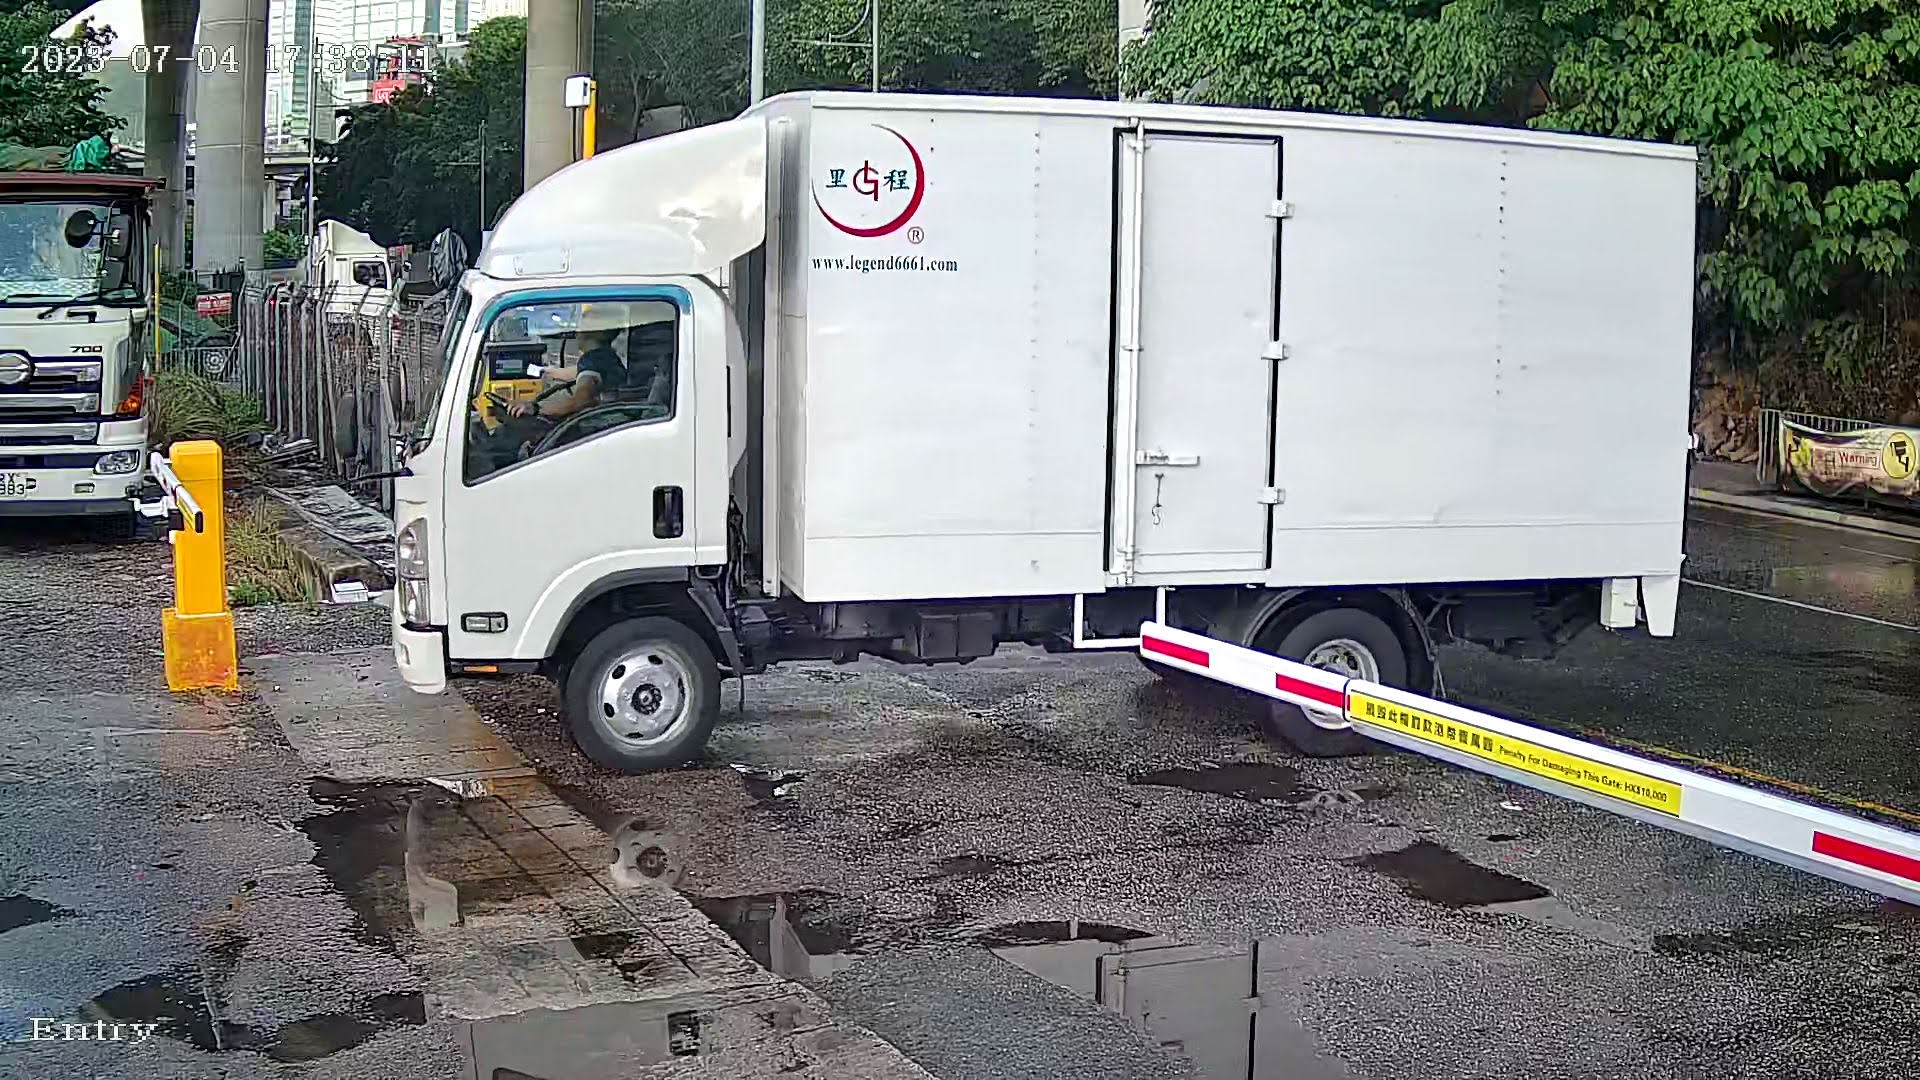truck_small: (385, 94, 1755, 791)
